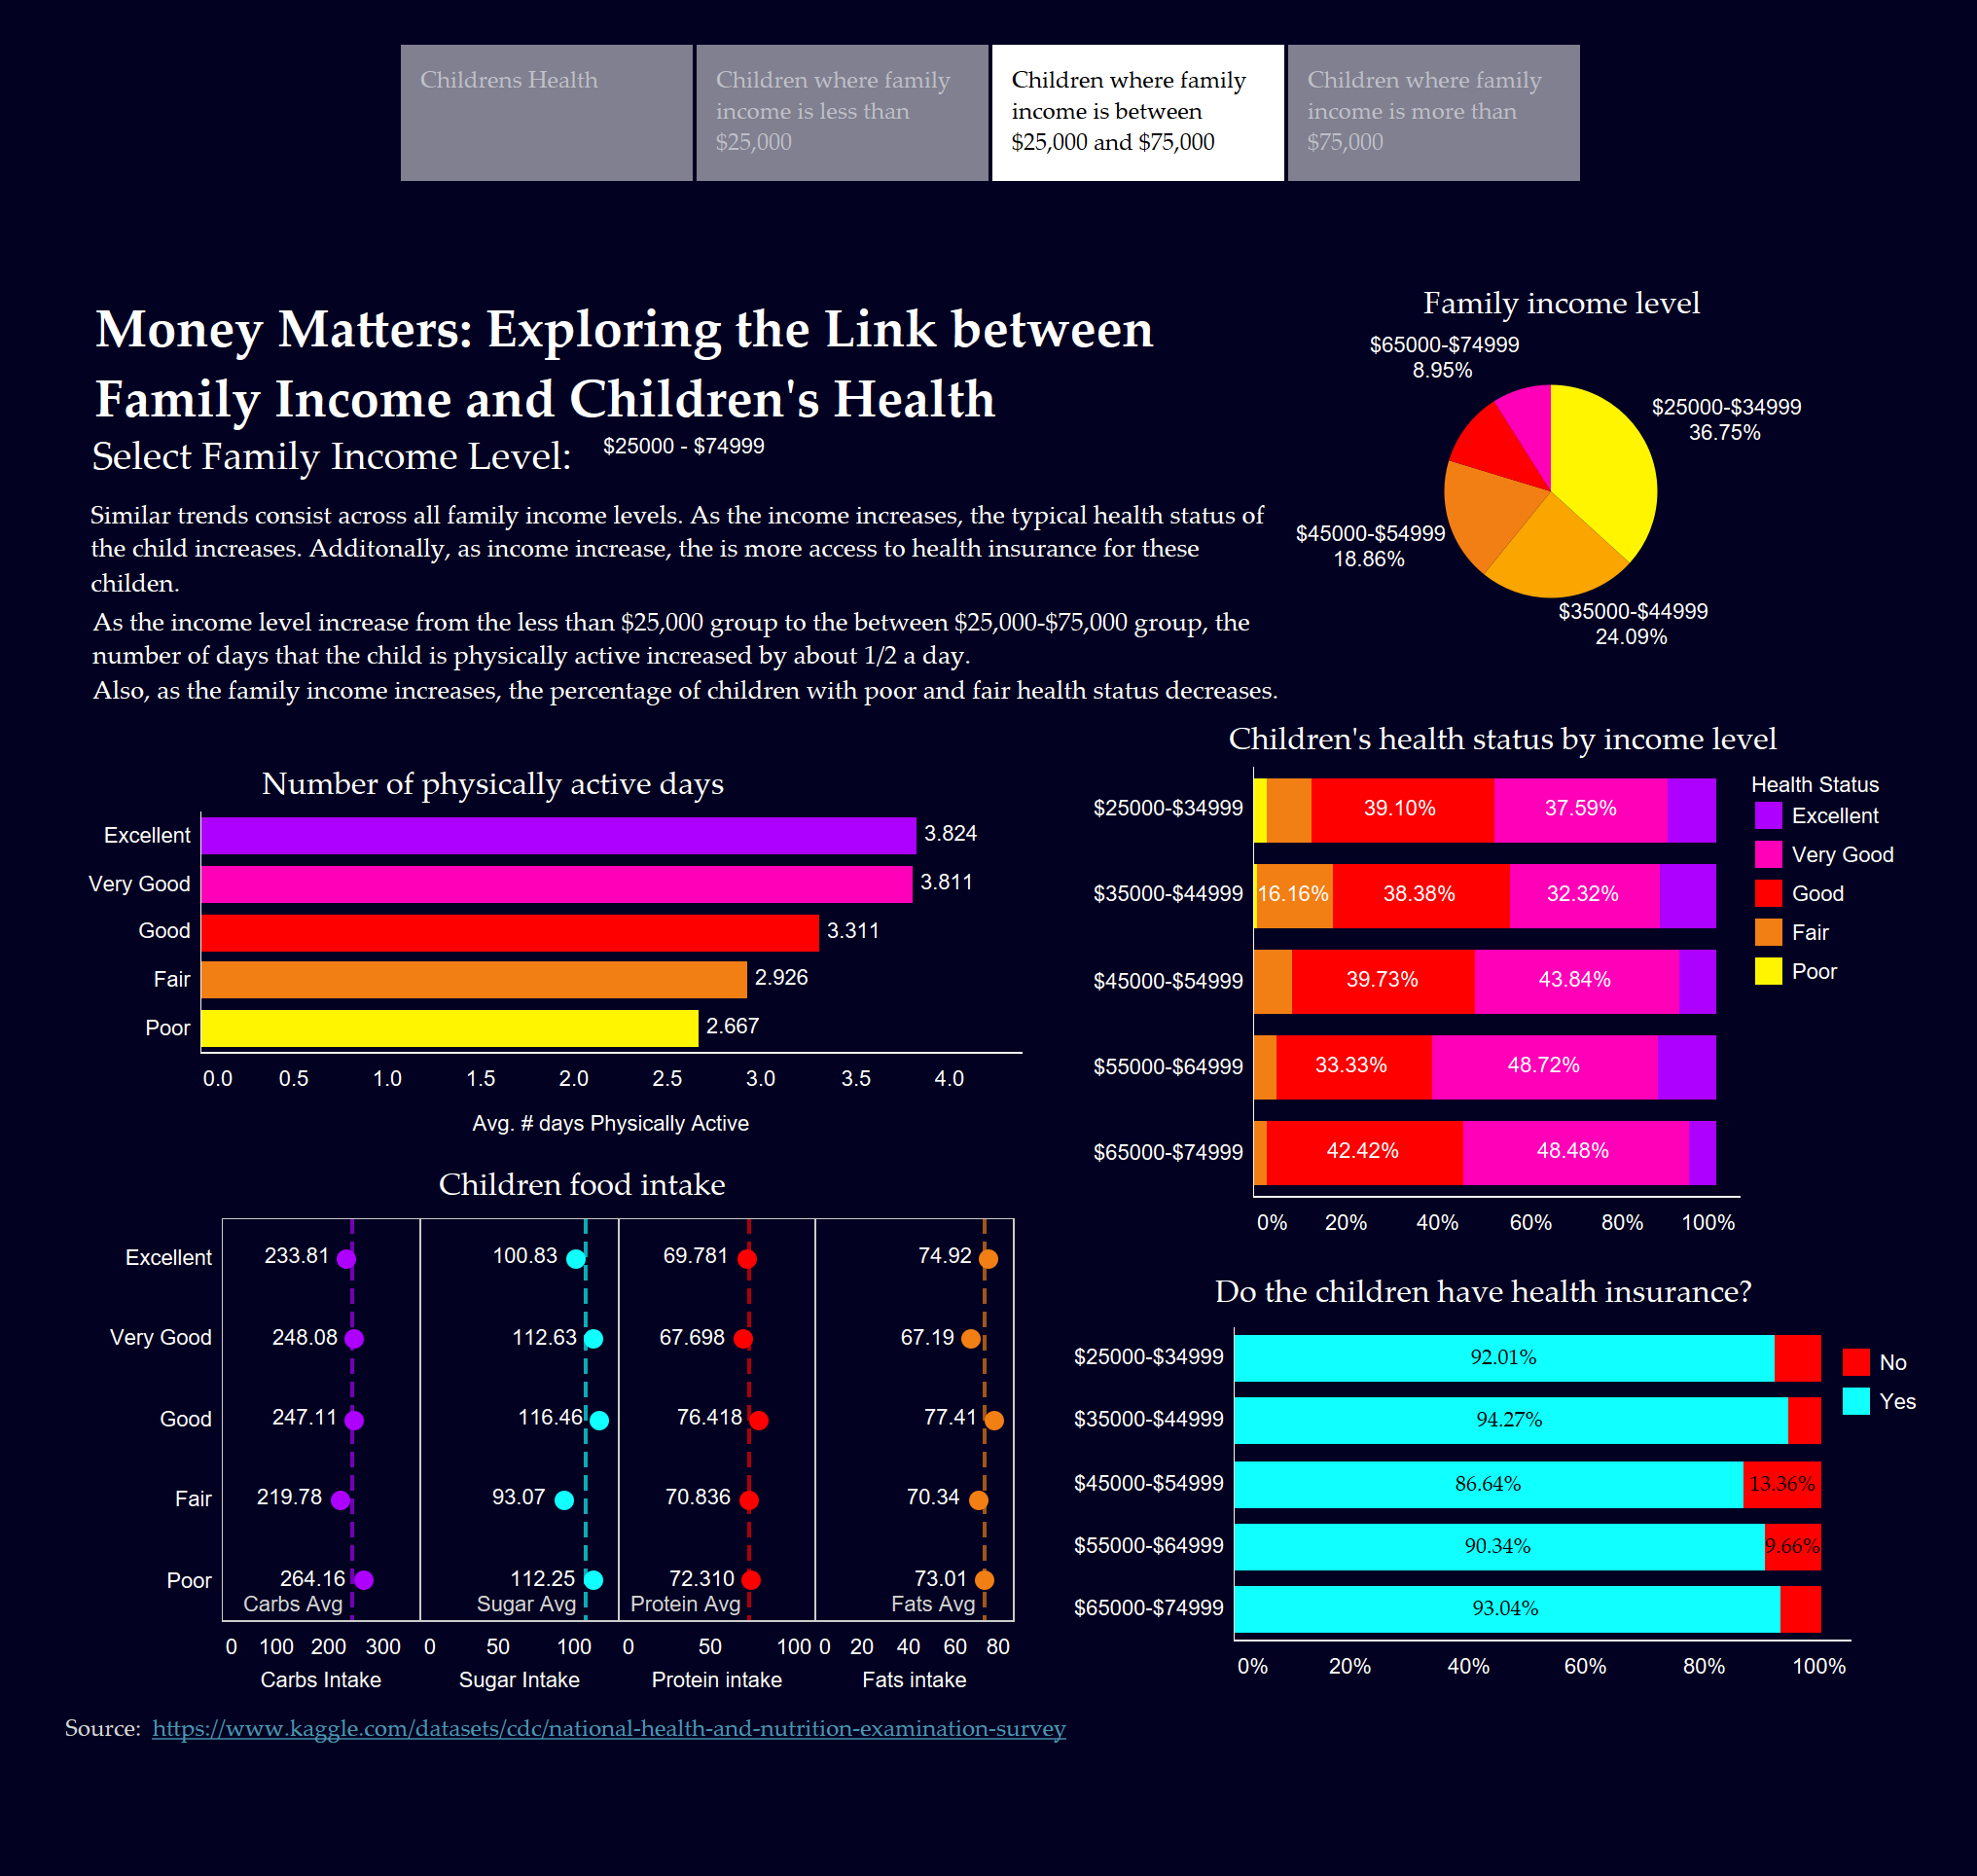

What the dashboard file says about the page in this screenshot:
{"tool":"tableau","page":{"name":"Trends","canvas":[1000,800],"ordinal":0},"visuals":[{"type":"text","box":[38,16,572,123]},{"type":"text","box":[721,20,160,52]},{"type":"worksheet","title":"Income","mark":"Pie","box":[611,34,356,219]},{"type":"text","box":[37,104,269,42]},{"type":"filter","title":"Income","param":"[federated.1q192nx11ypjns1g9qjly18qwb9i].[none:Income Level:nk]","box":[300,114,168,50]},{"type":"text","box":[36,142,613,62]},{"type":"text","box":[621,244,296,52]},{"type":"text","box":[124,262,311,62]},{"type":"worksheet","title":"Fam In Health Status","mark":"Automatic","rows":["family income"],"box":[536,285,350,251]},{"type":"legend","title":"Fam In Health Status","param":"[federated.1q192nx11ypjns1g9qjly18qwb9i].[none:Health Status:nk]","box":[891,286,97,116]},{"type":"worksheet","title":"Physical Activity","mark":"Automatic","rows":["Health Status"],"cols":["Calculation_874542771928481796"],"box":[15,308,502,174]},{"type":"text","box":[215,468,311,62]},{"type":"worksheet","title":"Health Status and Food Intake","mark":"Circle","rows":["Health Status"],"cols":["Carbs intake","Sugar intake","Protein intake","Fats intake"],"box":[26,517,488,245]},{"type":"text","box":[614,528,290,52]},{"type":"worksheet","title":"Health Insurance % by familiy income","mark":"Automatic","rows":["family income"],"box":[526,573,417,191]},{"type":"legend","title":"Health Insurance % by familiy income","param":"[federated.1q192nx11ypjns1g9qjly18qwb9i].[none:Health Insured:nk]","box":[936,581,68,61]},{"type":"text","box":[23,758,799,42]}]}

Visuals, with their boxes on the page's 1000x800 design canvas (x1, y1, x2, y2). These are canvas units, not pixel positions in the 1977x1876 screenshot, which may show the page scaled, cropped or inside an application window:
text: [left=38, top=16, right=610, bottom=139]
text: [left=721, top=20, right=881, bottom=72]
"Income" worksheet (Pie marks): [left=611, top=34, right=967, bottom=253]
text: [left=37, top=104, right=306, bottom=146]
"Income" filter: [left=300, top=114, right=468, bottom=164]
text: [left=36, top=142, right=649, bottom=204]
text: [left=621, top=244, right=917, bottom=296]
text: [left=124, top=262, right=435, bottom=324]
"Fam In Health Status" worksheet: [left=536, top=285, right=886, bottom=536]
"Fam In Health Status" legend: [left=891, top=286, right=988, bottom=402]
"Physical Activity" worksheet: [left=15, top=308, right=517, bottom=482]
text: [left=215, top=468, right=526, bottom=530]
"Health Status and Food Intake" worksheet (Circle marks): [left=26, top=517, right=514, bottom=762]
text: [left=614, top=528, right=904, bottom=580]
"Health Insurance % by familiy income" worksheet: [left=526, top=573, right=943, bottom=764]
"Health Insurance % by familiy income" legend: [left=936, top=581, right=1004, bottom=642]
text: [left=23, top=758, right=822, bottom=800]
